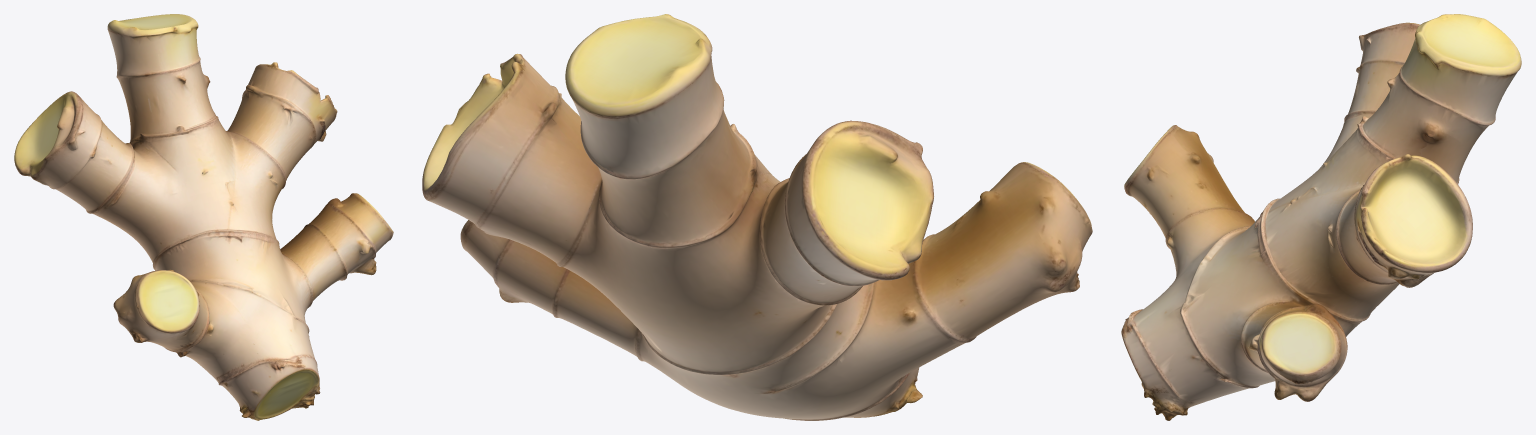
File: shengjiang.glb
3 views of the same model, side by side, from view 1: azimuth 30°, elevation 25°; view 2: azimuth 150°, elevation 25°; view 3: azimuth 270°, elevation 25° (orthographic). The views are drawn at different scales.
Visible parts, largest first — view 1: node_0; view 2: node_0; view 3: node_0.
Boxes of the visible parts, left/top/right/bottom form: node_0: left=14, top=14, right=393, bottom=420; node_0: left=422, top=14, right=1092, bottom=420; node_0: left=1121, top=14, right=1521, bottom=420.
Size of the model in its own units: 0.9584 by 0.9168 by 0.8874.
Materials: 1 (1 with a texture image).
